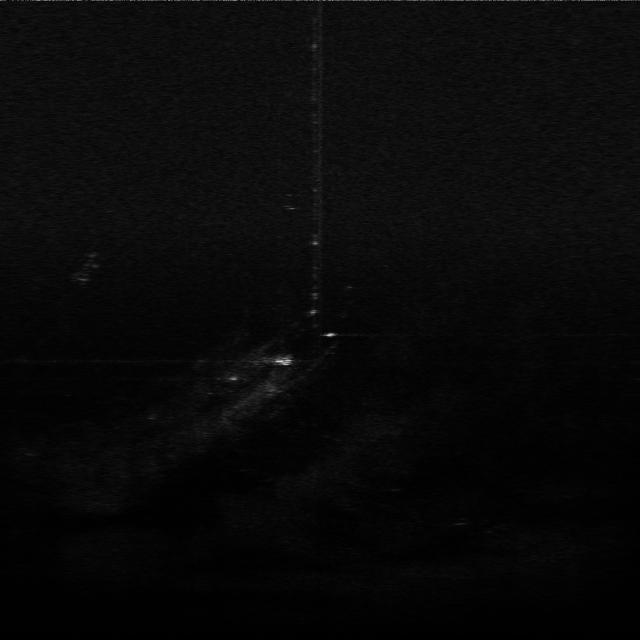rov: (267, 351, 298, 372)
